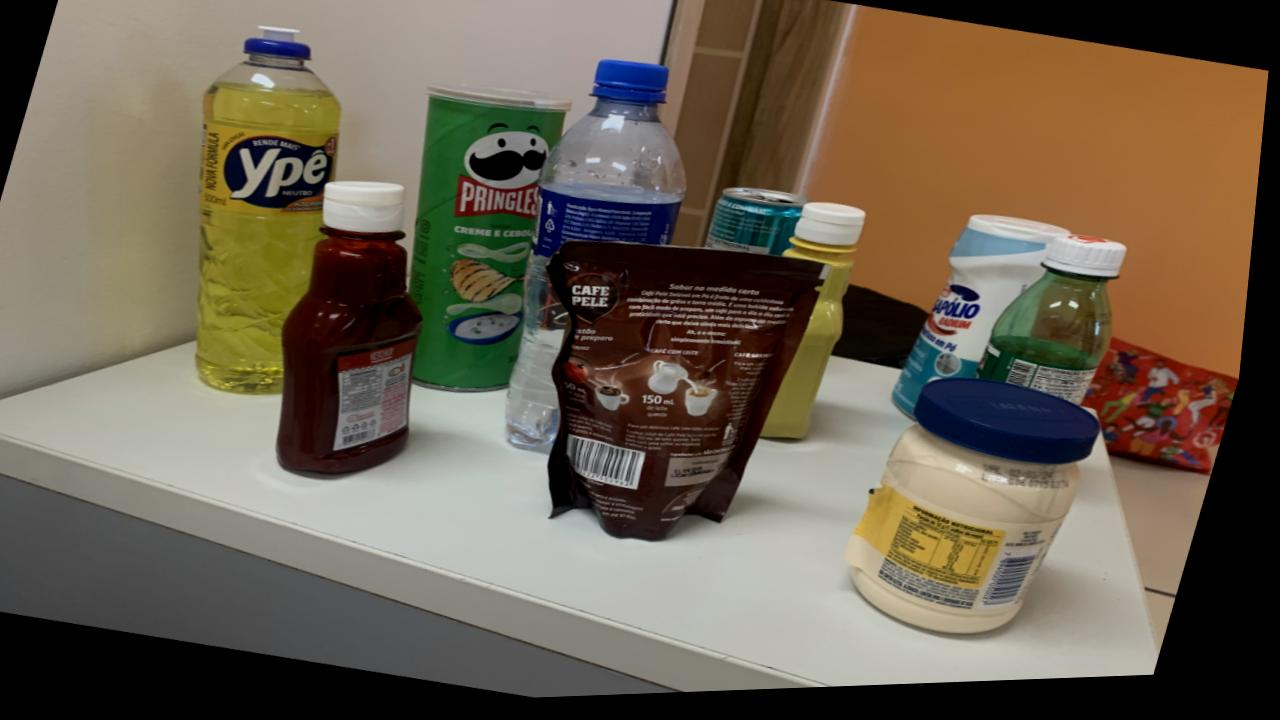Cleaner-Cleanup_Items: (900, 222, 1074, 422)
Coffee-Pantry_Items: (553, 245, 829, 546)
Detergent-Cleanup_Items: (202, 29, 343, 396)
Guarana-Drinks: (985, 242, 1131, 413)
Ketchup-Pantry_Items: (284, 184, 429, 477)
Mayonnaise-Pantry_Items: (856, 386, 1108, 642)
Mustard-Pantry_Items: (771, 208, 870, 446)
Pringles-Snacks: (414, 89, 572, 395)
Tea-Drinks: (710, 192, 813, 262)
Water_Bottle-Drinks: (514, 64, 691, 453)
